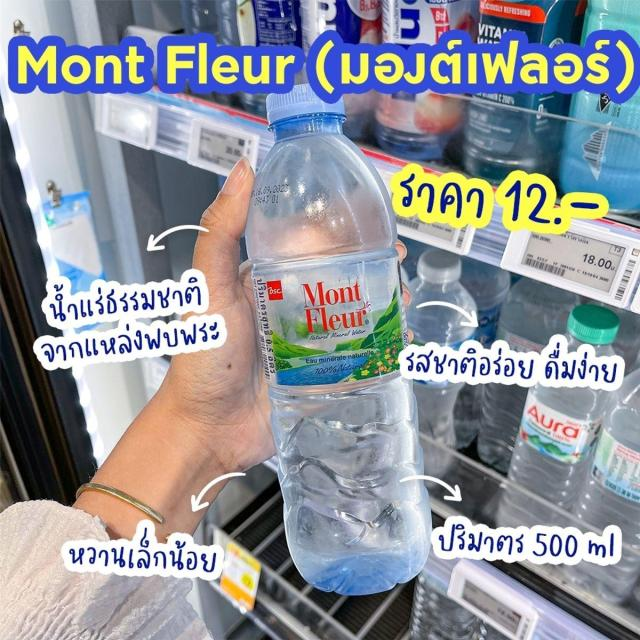bottle: (238, 68, 443, 599)
